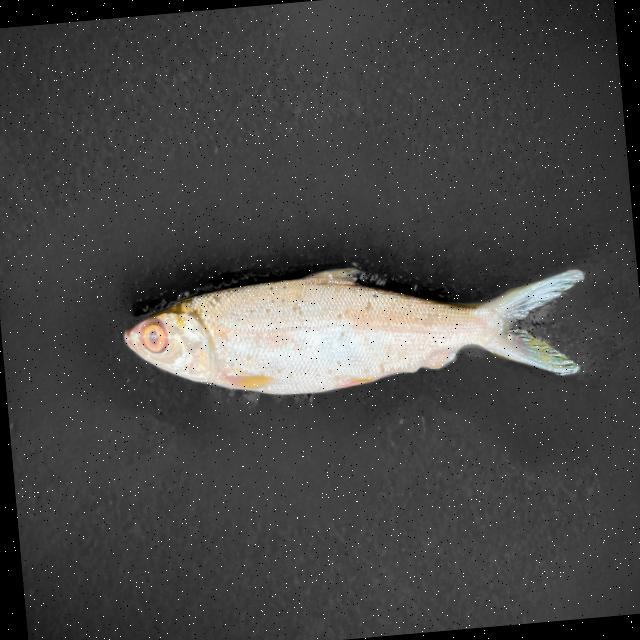565 g: (119, 246, 594, 410)
